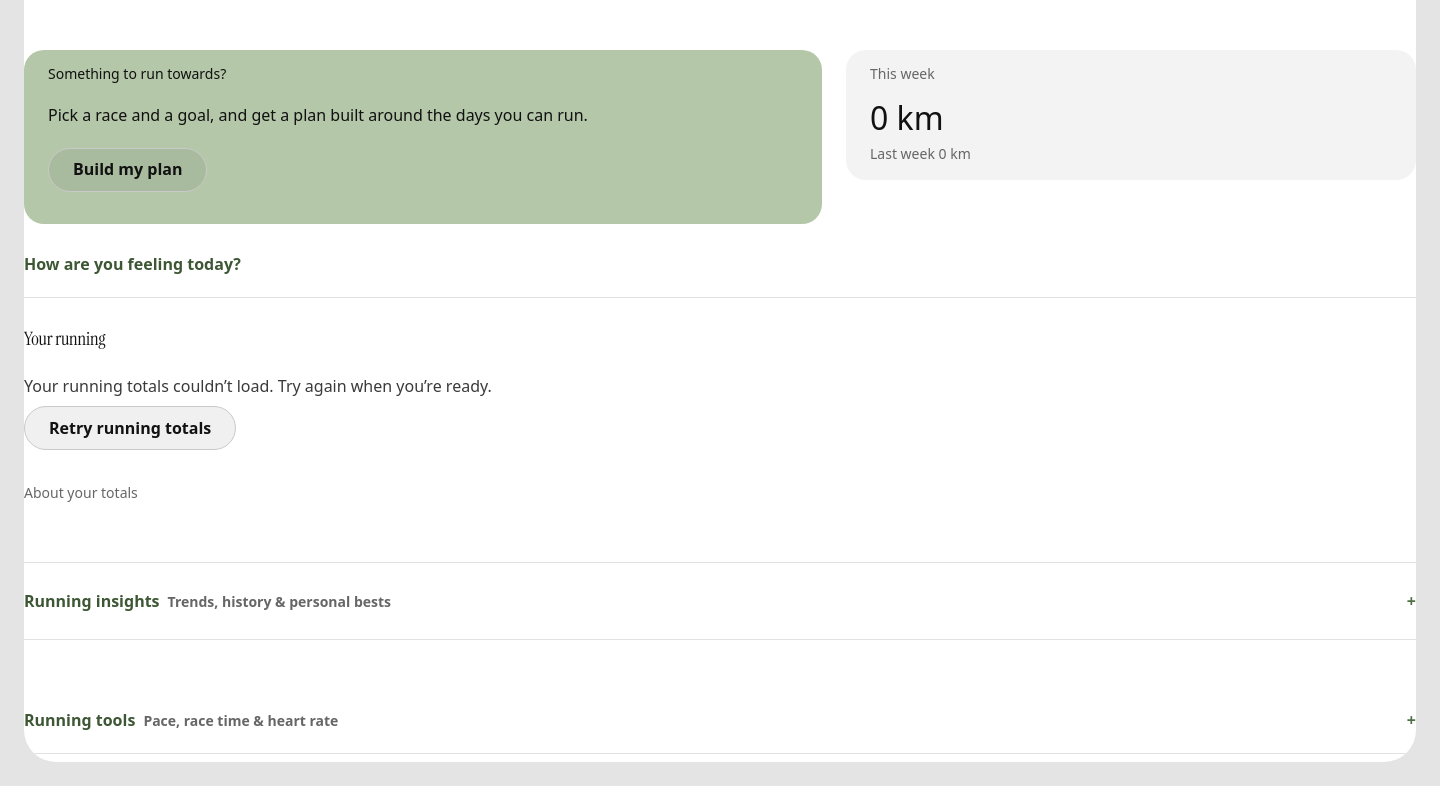
Test: the calculators › lists heart-rate zones from the runner’s own maximum
This screenshot has width=1440, height=786.
(page scrolled)
Click the heading "Running tools Pace, race time & heart rate".
click(181, 720)  # box [24,709,338,731]
(page scrolled)
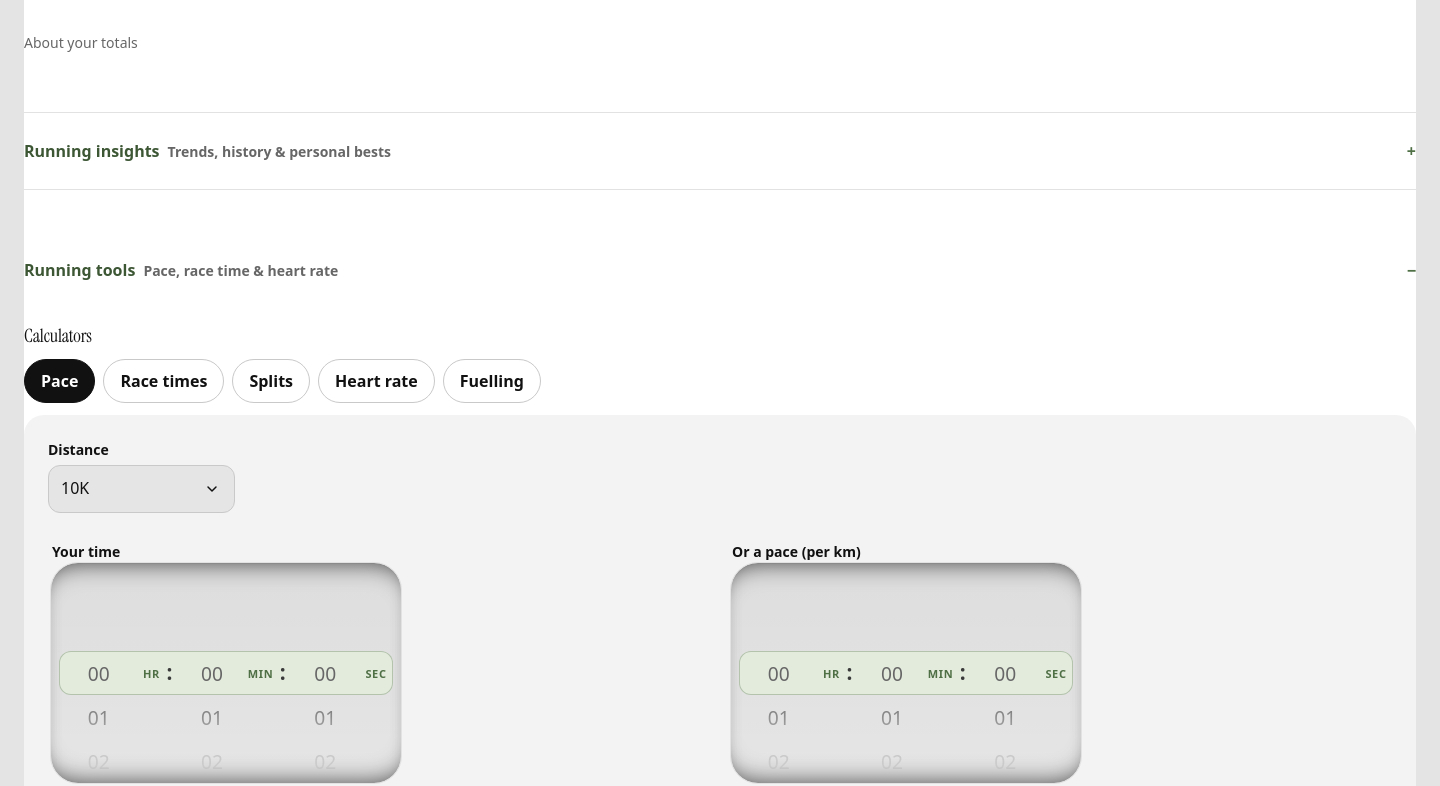
Click the button "Heart rate".
click(376, 381)  # box [318,359,435,403]
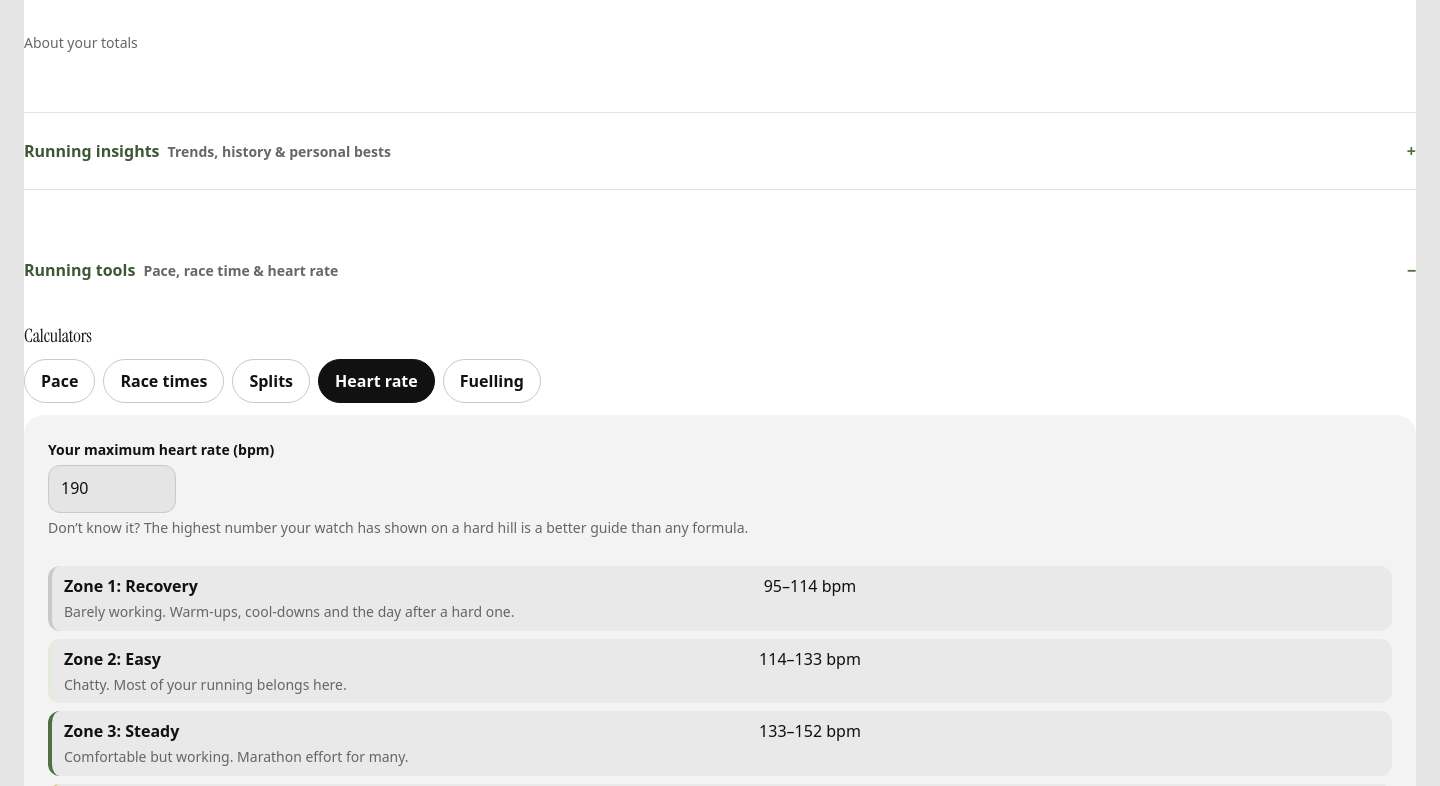
Result: the field labelled "Your maximum heart rate (bpm)" holds "190" at [48,465,176,513]
Result: the text "Zone 2: Easy" is shown at [64,648,161,670]
Result: the text "114–133 bpm" is shown at [759,648,861,670]
